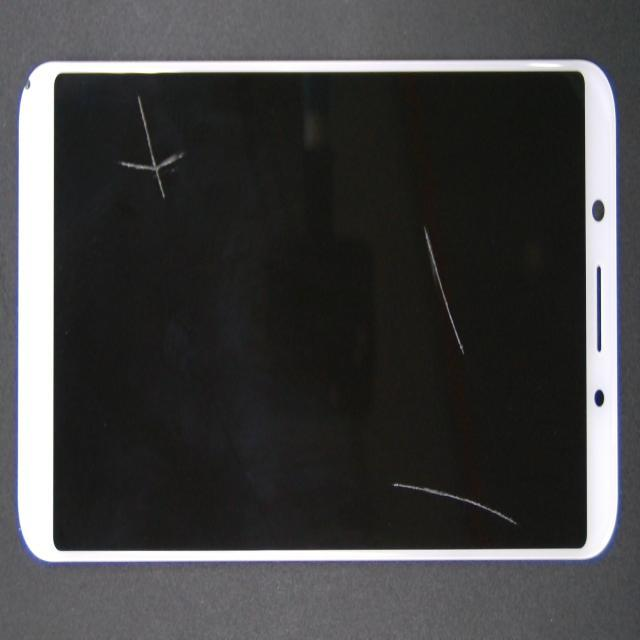scratch: (385, 472, 515, 531), (415, 218, 467, 360), (120, 93, 186, 201)
